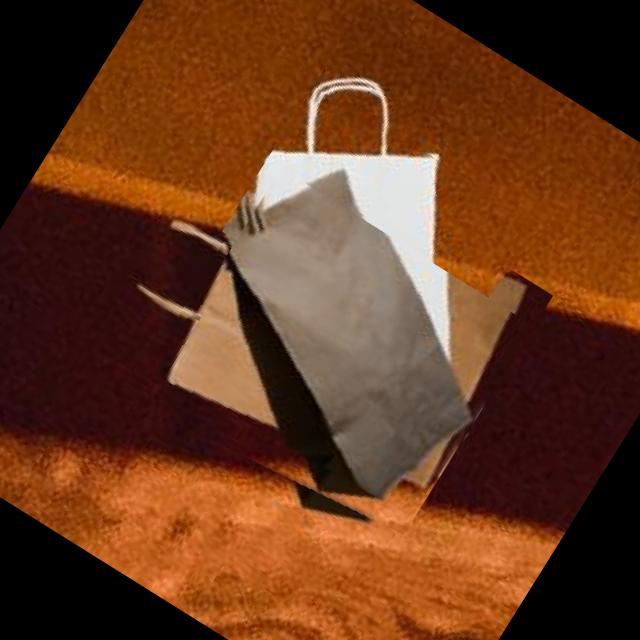PaperCardboard: (168, 196, 511, 492), (220, 166, 486, 499), (257, 151, 434, 363)
